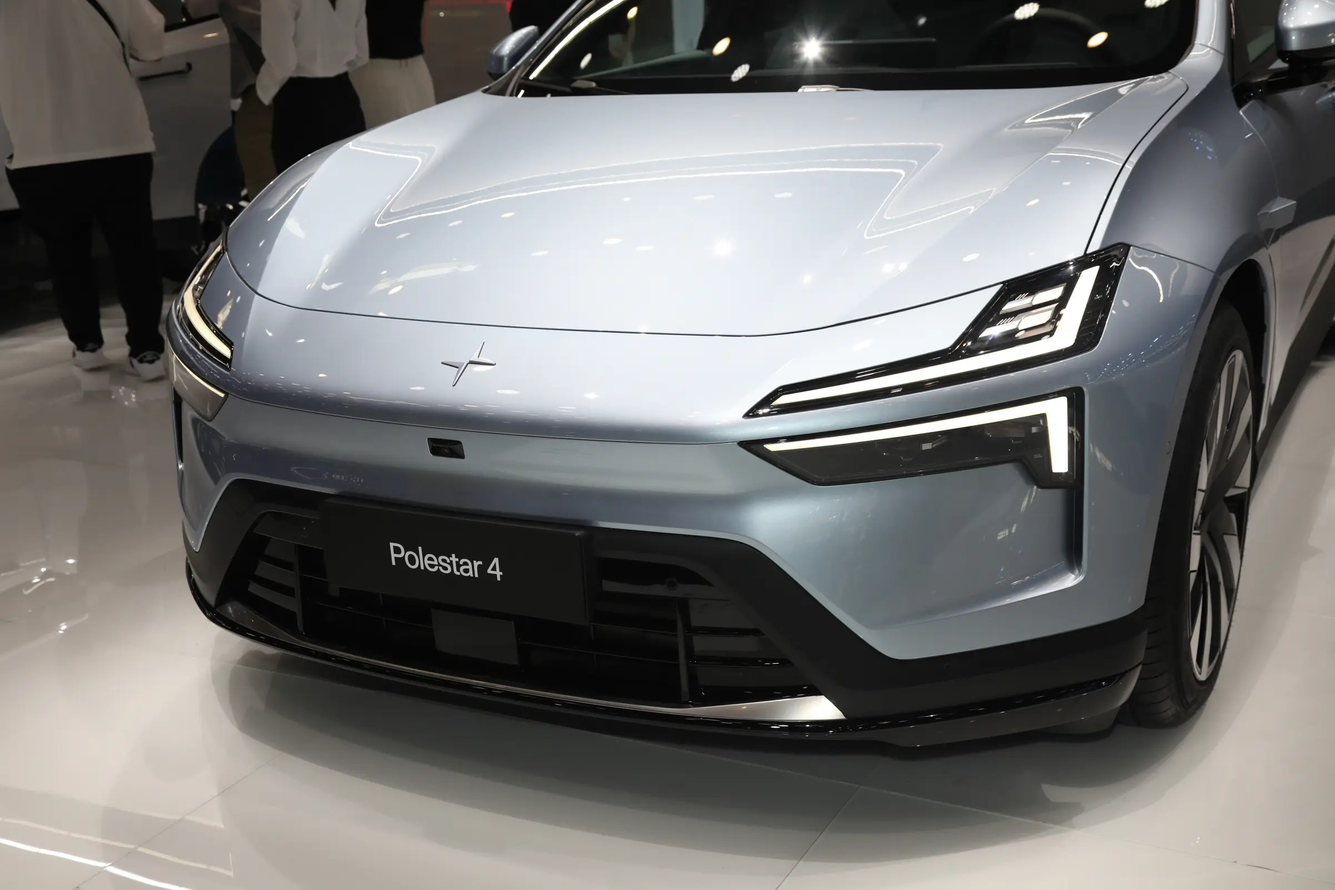Polestar: (442, 342, 496, 386)
